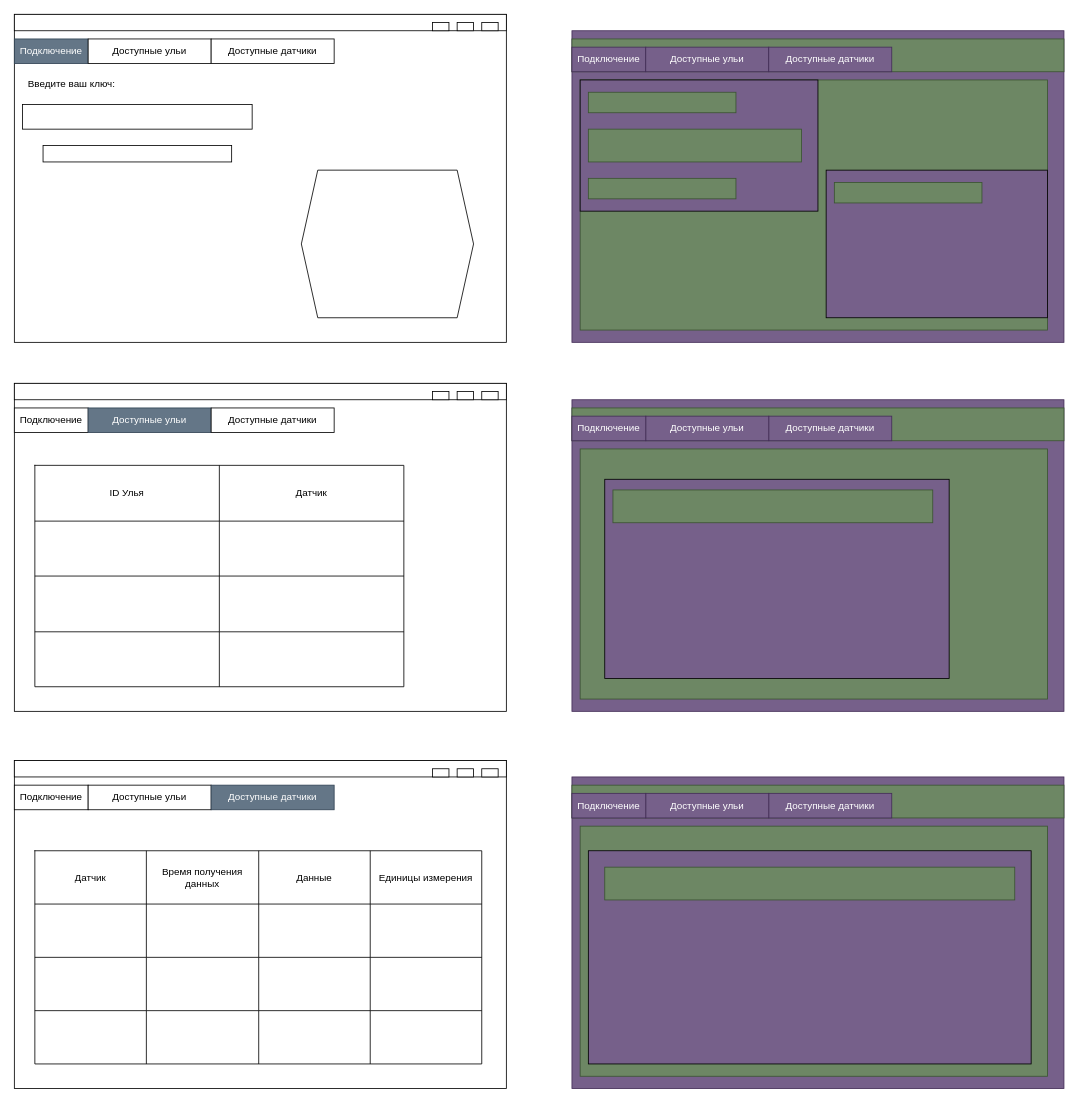
Some shapes in this 1078 by 1103 pixel diagram are drawn without their labels. The centre of each missing label's shape, as x and y in pixels:
Выбрана пасека:: the point at 387,243
Подключиться к пасеке: the point at 137,153
